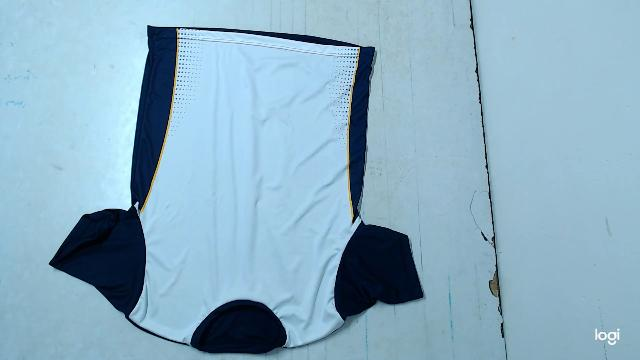new-garment: (50, 27, 423, 353)
